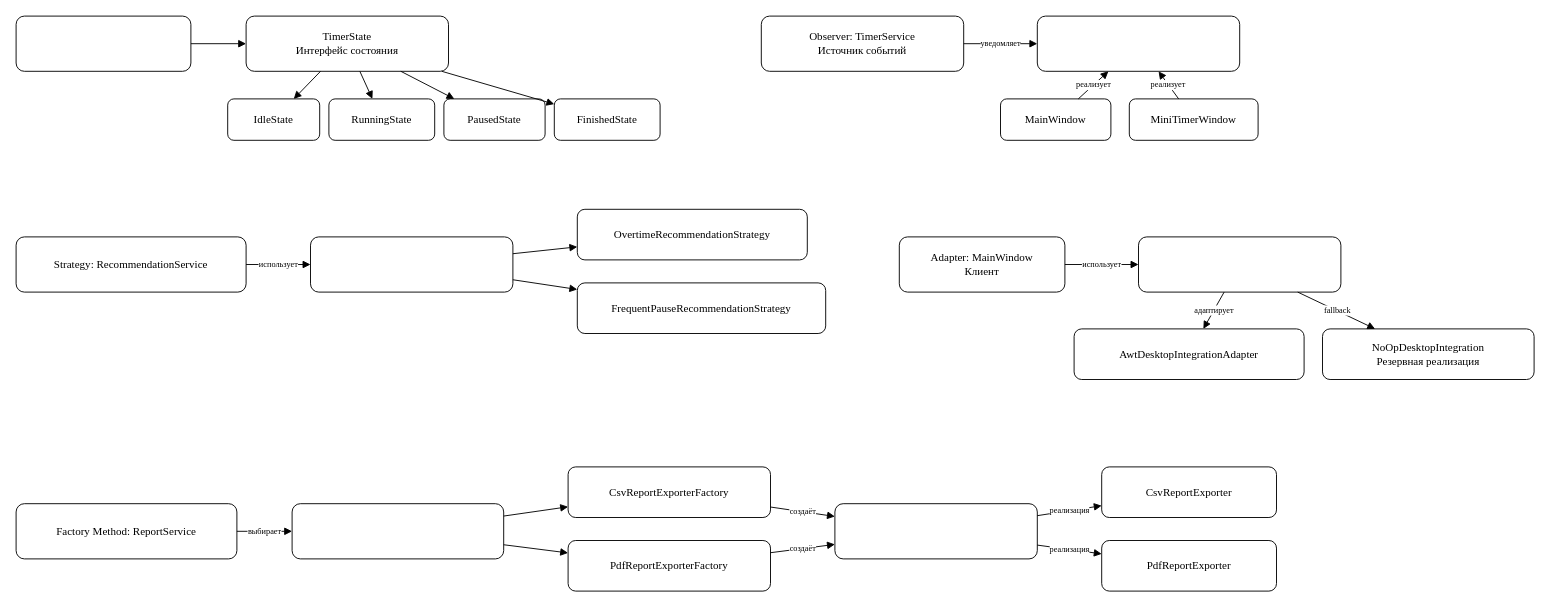
This 1550x607 diagram has some shape labels left out. Here are the shapes that lost their labels. From the top down, the box of each, then its label:
(15, 15, 191, 71): State: TimerService Контекст
(1036, 15, 1240, 71): TimerObserver Интерфейс подписчика
(310, 236, 513, 292): RecommendationStrategy Интерфейс алгоритма
(1138, 236, 1341, 292): DesktopIntegration Целевой интерфейс
(291, 503, 504, 559): ReportExporterFactory Абстрактный создатель
(834, 503, 1037, 559): ReportExporter Интерфейс экспорта
